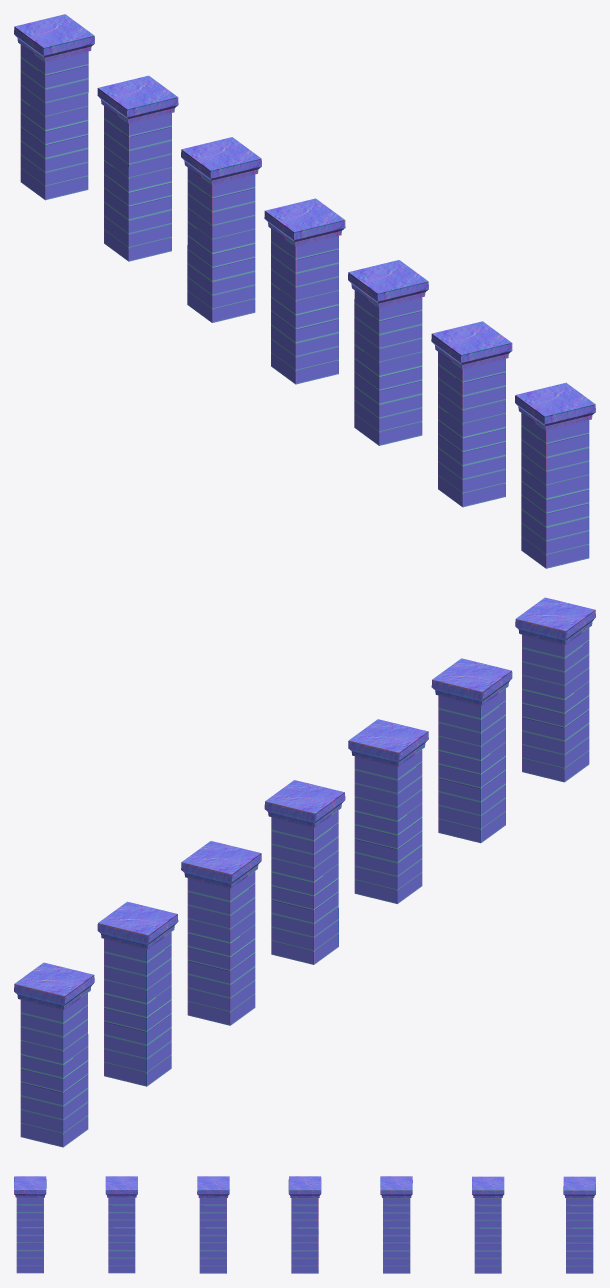
3 views of the same model, one above another, from view 1: azimuth 30°, elevation 25°; view 2: azimuth 150°, elevation 25°; view 3: azimuth 270°, elevation 25° (orthographic). The views are drawn at different scales.
Visible parts, largest first — view 1: pillar_low_025; view 2: pillar_low_025; view 3: pillar_low_025.
Part boxes in pixels (x1=…): pillar_low_025: x1=14, y1=14, x2=595, y2=568; pillar_low_025: x1=14, y1=597, x2=595, y2=1147; pillar_low_025: x1=14, y1=1176, x2=595, y2=1273.
Size of the model in its own units: 143 by 397 by 2472.
